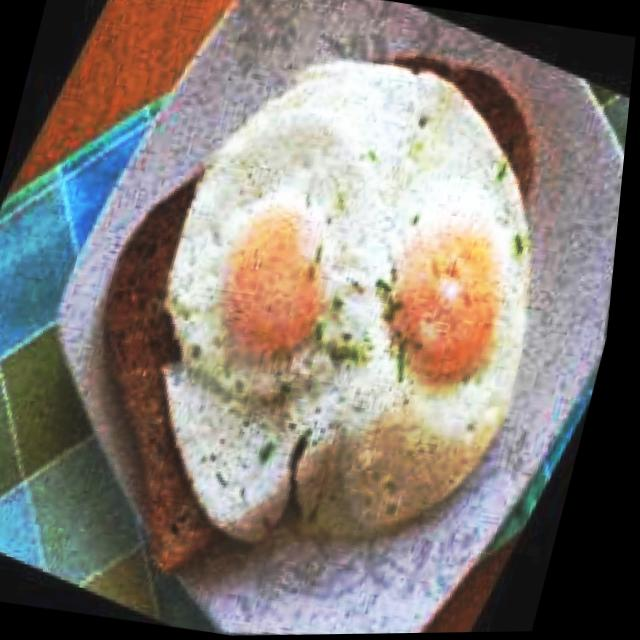fried_eggs: (114, 41, 415, 546), (290, 67, 592, 567)
